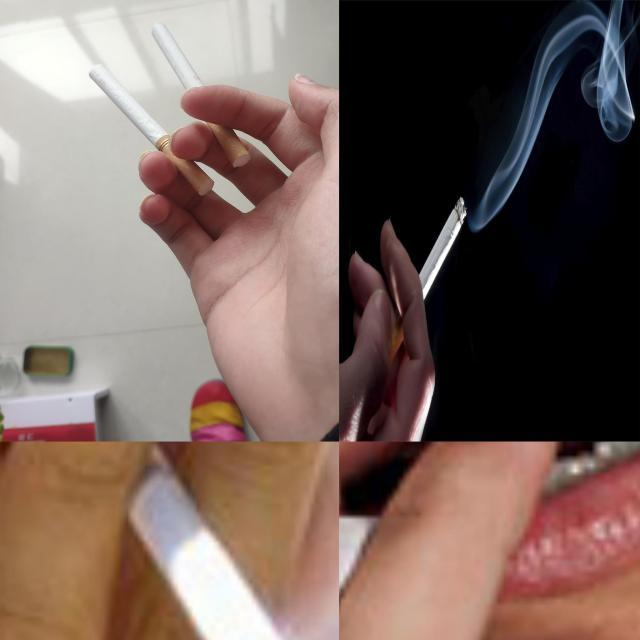cigarette: (98, 442, 320, 640), (88, 62, 214, 196), (377, 195, 467, 377), (150, 22, 252, 168)
